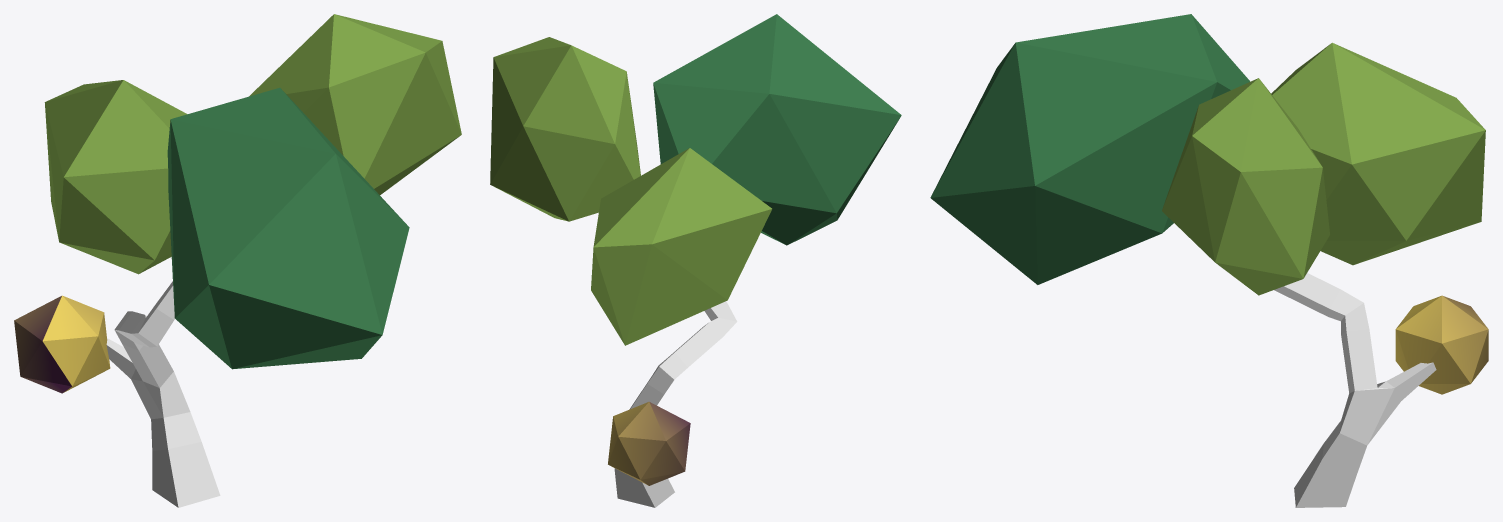
Rendered from tree1.fbx.
3 renders of one model, left to right at view 1: azimuth 30°, elevation 25°; view 2: azimuth 150°, elevation 25°; view 3: azimuth 270°, elevation 25°, orthographic. The views are drawn at different scales.
Parts seen in each view (by area): view 1: Icosphere.032, Icosphere.030, Icosphere.031, Tree1, Icosphere.033; view 2: Icosphere.032, Icosphere.031, Icosphere.030, Icosphere.033, Tree1; view 3: Icosphere.032, Icosphere.031, Icosphere.030, Tree1, Icosphere.033.
Part boxes in pixels (x1,y1,x2,y2): Icosphere.032: [167, 87, 409, 369]; Icosphere.030: [249, 14, 461, 194]; Icosphere.031: [44, 80, 187, 274]; Tree1: [106, 281, 220, 507]; Icosphere.033: [14, 295, 110, 393]; Icosphere.032: [653, 14, 901, 245]; Icosphere.031: [591, 148, 771, 345]; Icosphere.030: [490, 37, 640, 221]; Icosphere.033: [608, 401, 690, 485]; Tree1: [614, 301, 737, 507]; Icosphere.032: [930, 14, 1249, 284]; Icosphere.031: [1271, 42, 1485, 265]; Icosphere.030: [1162, 78, 1329, 295]; Tree1: [1274, 273, 1436, 507]; Icosphere.033: [1395, 295, 1488, 394].
Size of the model in its own units: 49.47 by 65.6 by 61.98.
